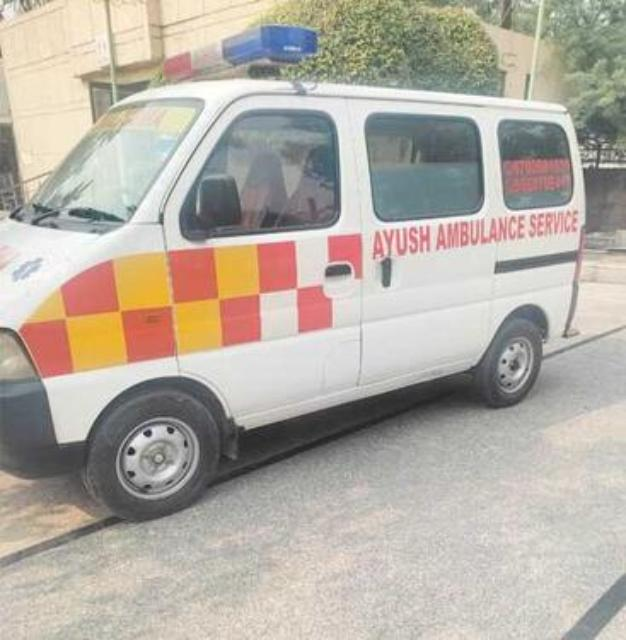ambulance: (0, 79, 585, 519)
